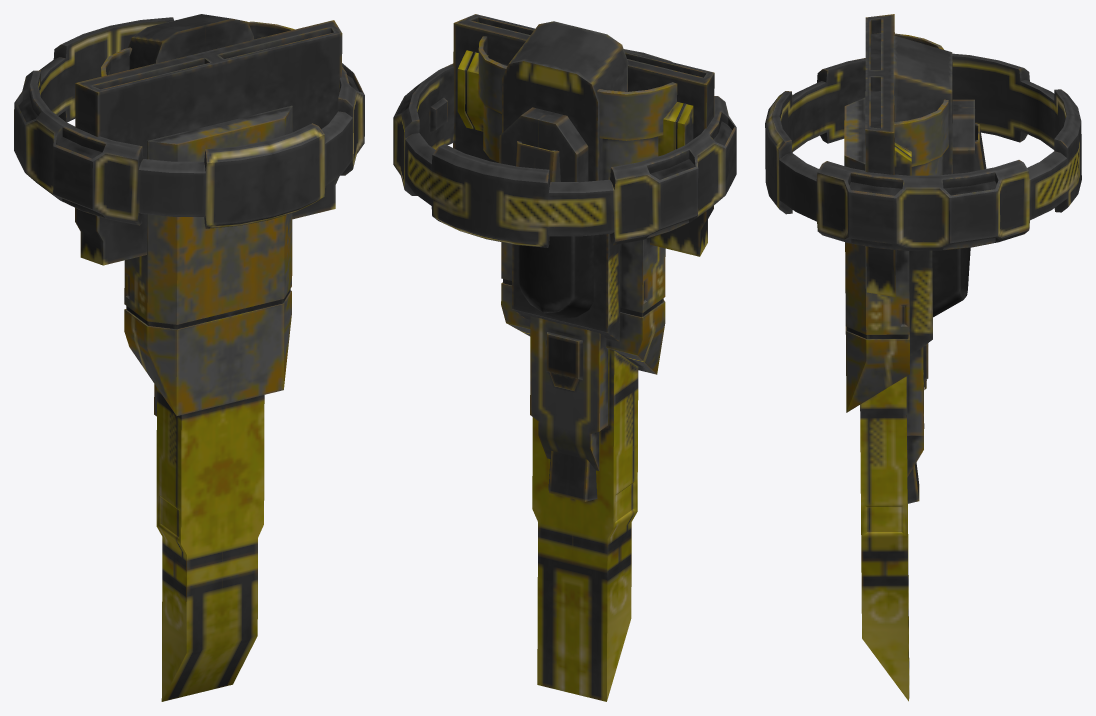
Rendered from Zenith.fbx.
3 renders of one model, left to right at view 1: azimuth 30°, elevation 25°; view 2: azimuth 150°, elevation 25°; view 3: azimuth 270°, elevation 25°, orthographic. The views are drawn at different scales.
Visible parts, largest first — view 1: Zenith; view 2: Zenith; view 3: Zenith.
Boxes of the visible parts, x1,y1,x2,y2 form: Zenith: [14, 14, 364, 701]; Zenith: [393, 14, 736, 701]; Zenith: [765, 14, 1081, 701].
Size of the model in its own units: 244 by 524 by 236.
